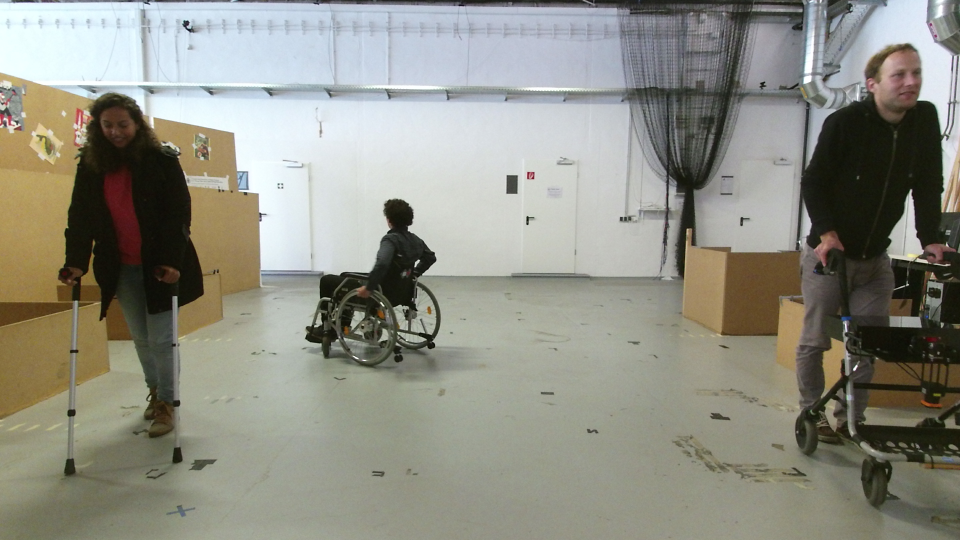crutches: (51, 91, 207, 479)
wheelchair: (303, 196, 442, 368)
